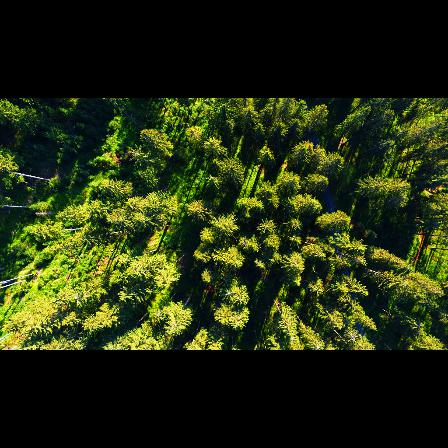Sick: (258, 217, 276, 234), (217, 272, 236, 286), (218, 287, 237, 301), (232, 291, 249, 306)
